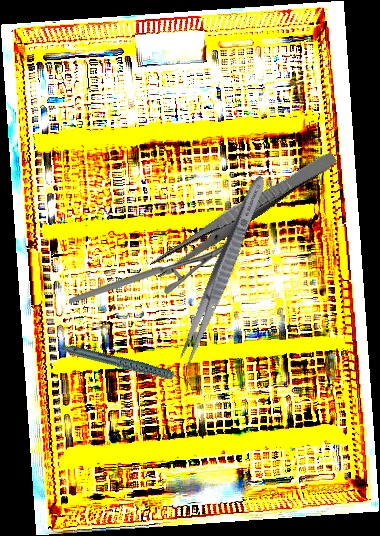Dressing Forceps: (147, 144, 340, 281), (174, 172, 271, 371)
Handpiece: (59, 318, 194, 413)
Needle Holder: (69, 240, 235, 303)
